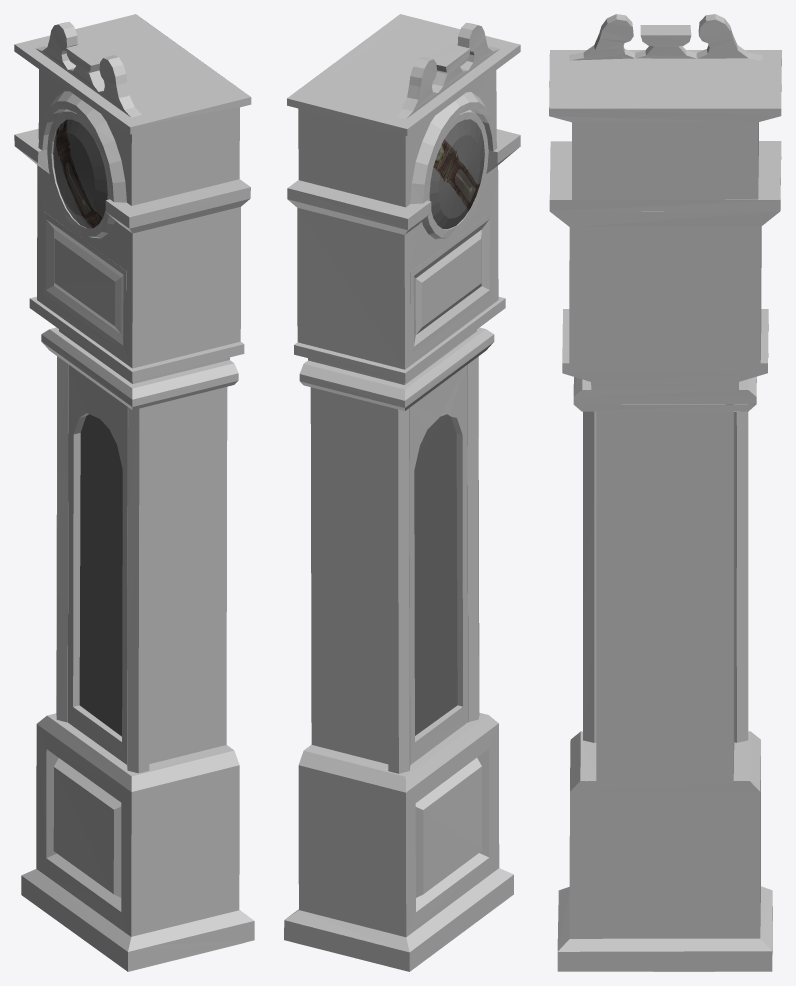
File: Re Rebirth clock.obj
The picture shows the model from 3 angles, left to right: view 1: azimuth 30°, elevation 25°; view 2: azimuth 150°, elevation 25°; view 3: azimuth 270°, elevation 25°; orthographic projection.
Visible parts, largest first — view 1: 00.002_Mesh.225_Mater, 00.000_Mesh.223_Mater, 00.001_Mesh.224_Mater; view 2: 00.002_Mesh.225_Mater, 00.000_Mesh.223_Mater, 00.001_Mesh.224_Mater; view 3: 00.002_Mesh.225_Mater.
Boxes of the visible parts, x1,y1,x2,y2 form: 00.002_Mesh.225_Mater: [14, 14, 254, 971]; 00.000_Mesh.223_Mater: [53, 119, 122, 736]; 00.001_Mesh.224_Mater: [47, 109, 114, 238]; 00.002_Mesh.225_Mater: [284, 14, 520, 971]; 00.000_Mesh.223_Mater: [414, 119, 484, 735]; 00.001_Mesh.224_Mater: [422, 110, 488, 239]; 00.002_Mesh.225_Mater: [549, 14, 781, 971].
Bounding box in the file's own units: 0.0426 × 0.2794 × 0.0654.
